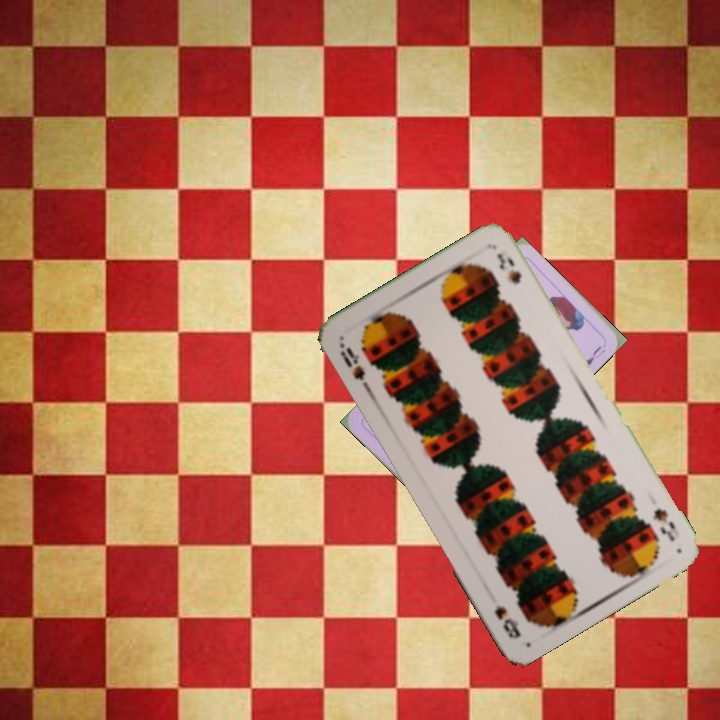S8: (335, 339, 373, 392), (649, 504, 678, 544)
